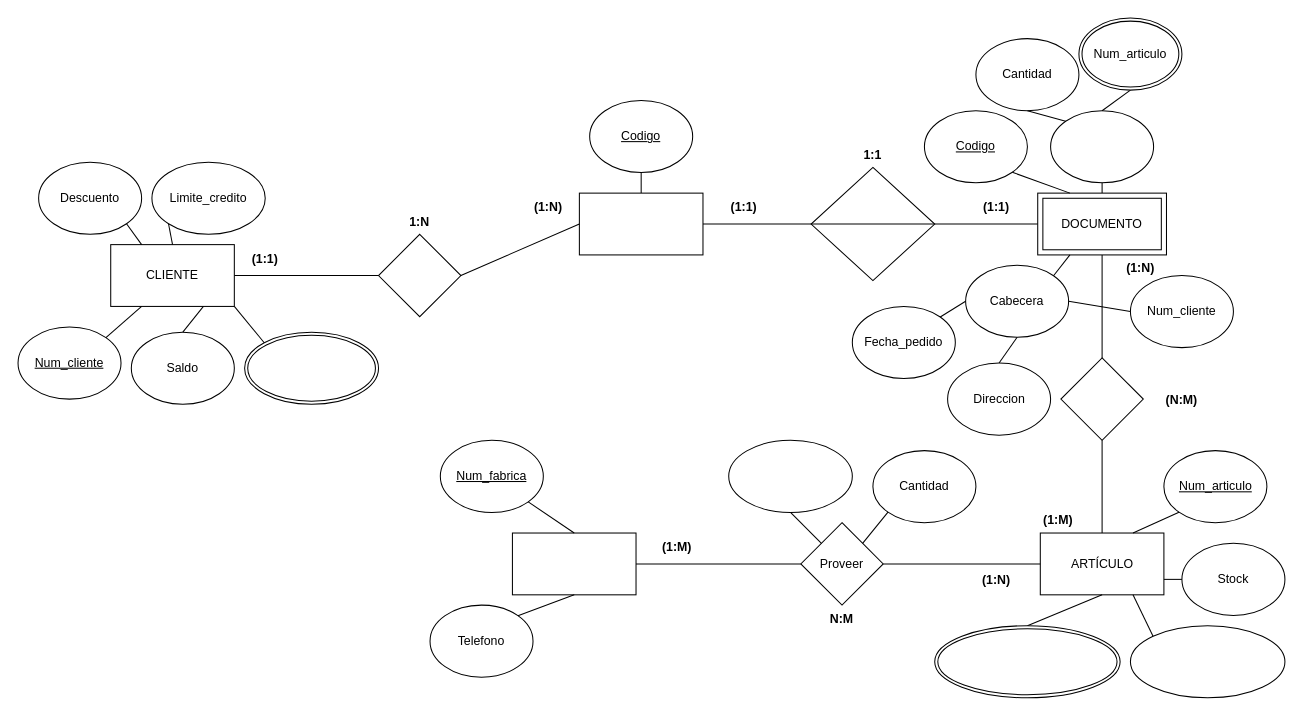
The diagram is 1303 pixels wide and 716 high, and some of its shapes have lost their labels. The centre of each missing label's shape, as x and y in pixels:
Contener: the point at 1101,398
Cuerpo_pedido: the point at 1102,146
Descripcion_articulo: the point at 1207,661
Direccion_envio: the point at 311,367
E Registrar: the point at 872,223
Es_alternativa: the point at 790,475
FABRICA: the point at 573,563
Fabricas_distribuidoras: the point at 1027,661
Hacer: the point at 419,275
PEDIDO: the point at 640,223
